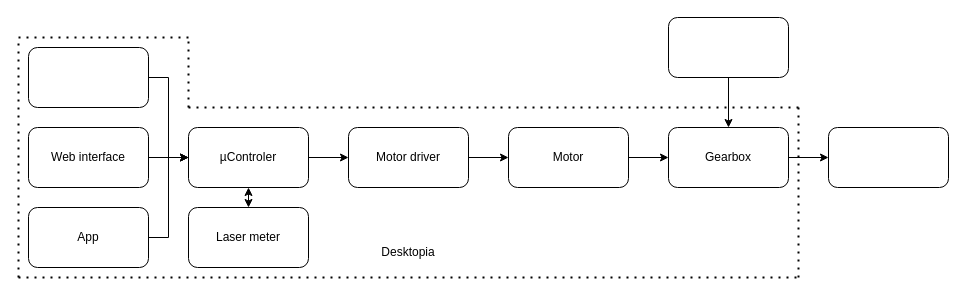
Some shapes in this 966 by 297 pixel diagram are drawn without their labels. Each missing label, with the centre of its shape:
"Button" goes at (88,77).
"Crank handle" goes at (728,47).
"Desk" goes at (888,157).
